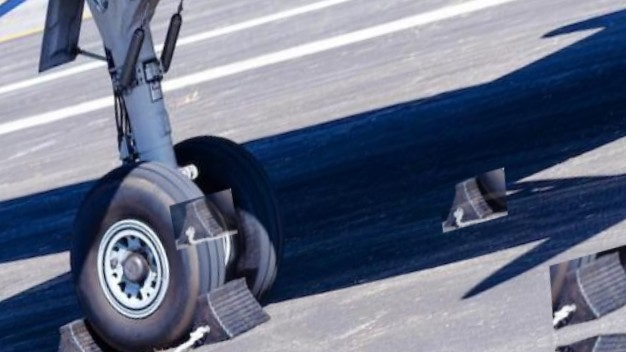chock: (178, 267, 278, 352), (540, 241, 626, 333), (434, 167, 514, 233), (168, 188, 240, 250), (38, 307, 128, 352)
wheel: (55, 146, 240, 352), (166, 113, 308, 320)
